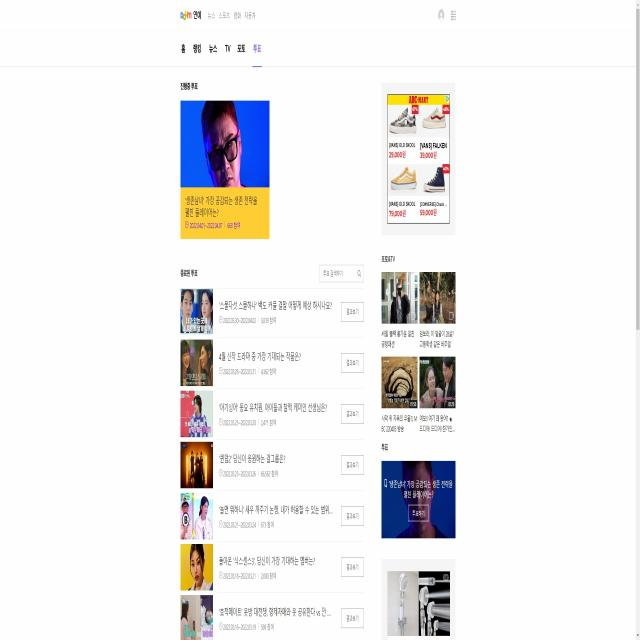menu-bar: (435, 3, 459, 26)
search: (318, 261, 364, 283)
side-panel: (379, 249, 458, 639)
tab-bar: (178, 35, 266, 71), (178, 7, 258, 27)
